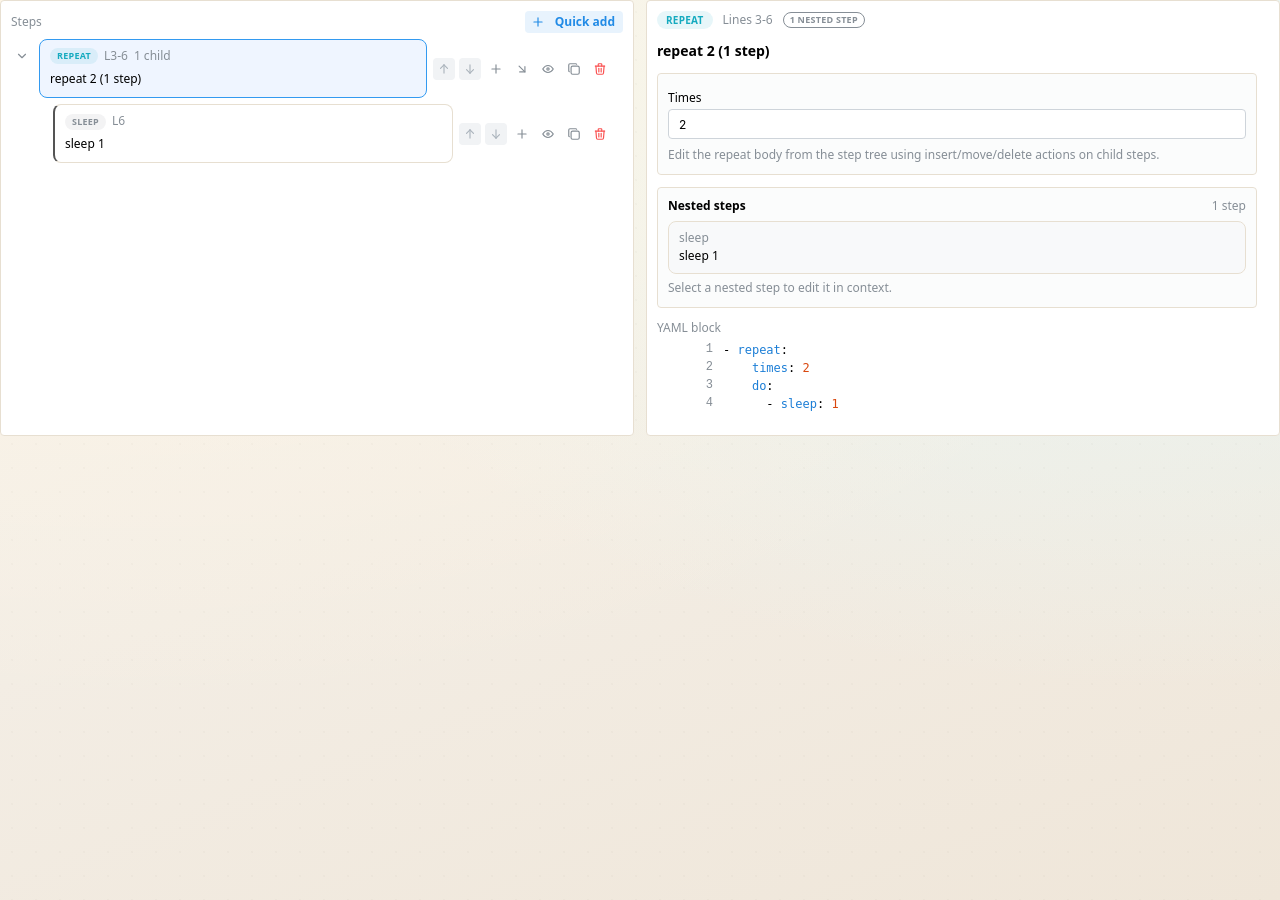
Scenario: SequencerOutlinePane active step › keeps a collapsed parent collapsed without Follow, but tints it
Click the button named "Collapse step": (22, 56) [11,45,33,67]
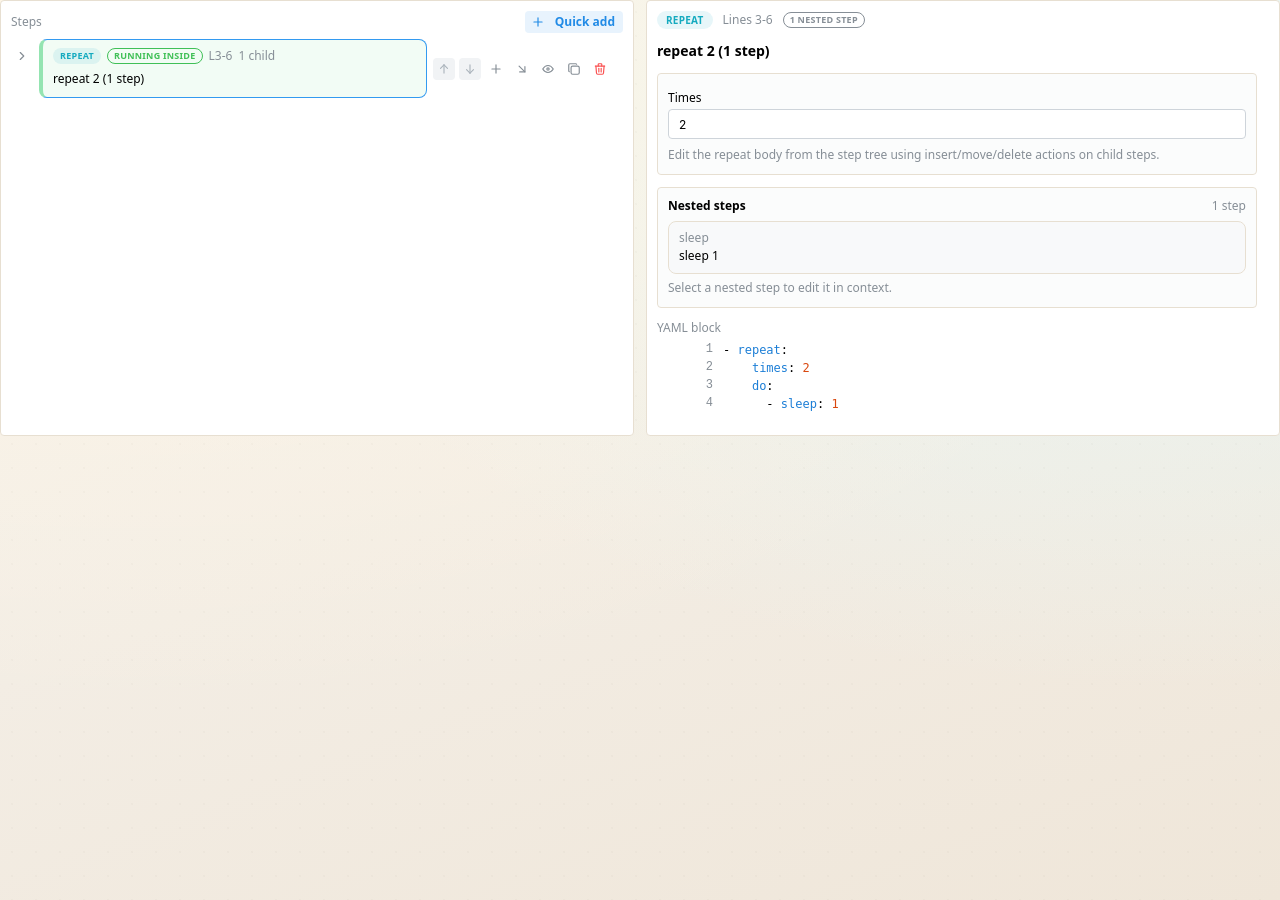
Check: the text "running inside" is shown, box [114,49,196,63]
